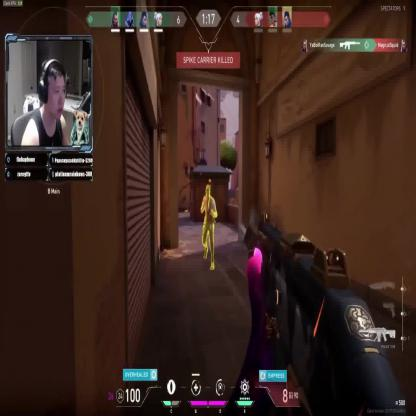enemy: (200, 184, 218, 270)
enemy_head: (205, 184, 211, 196)
